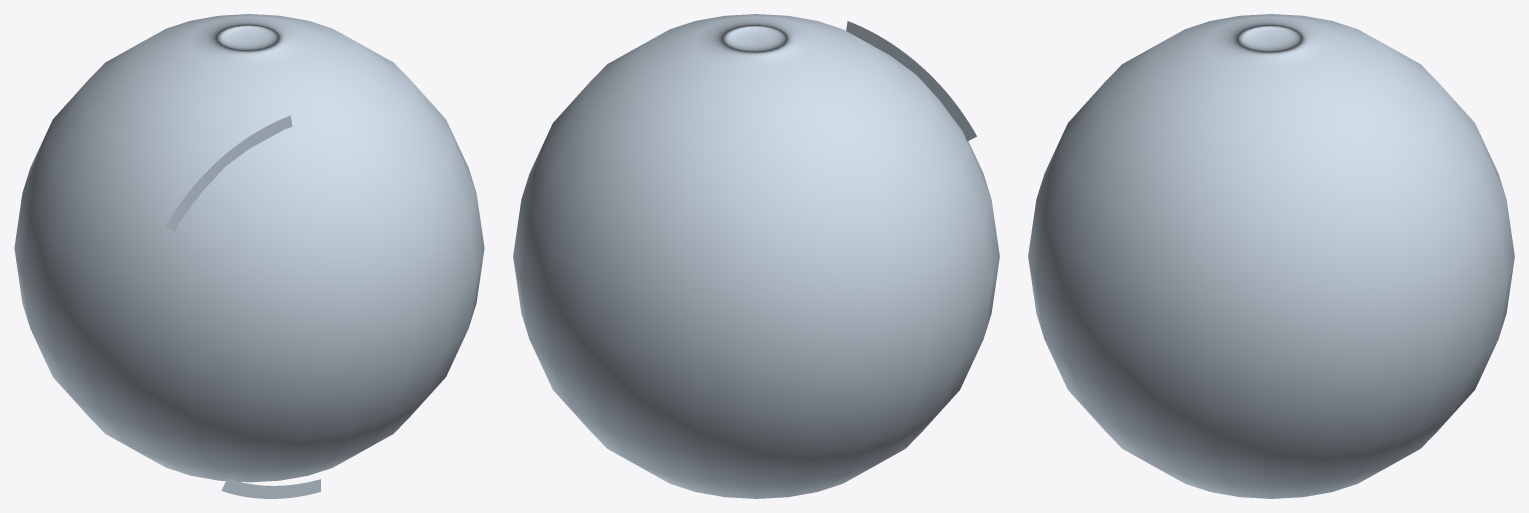
Rendered from 2041_BubbleProjectiles_Heal1_Bubble.fbx.
The picture shows the model from 3 angles, left to right: view 1: azimuth 30°, elevation 25°; view 2: azimuth 150°, elevation 25°; view 3: azimuth 270°, elevation 25°; orthographic projection. The views are drawn at different scales.
Parts seen in each view (by area): view 1: PART_BubbleWaterMembrane, PART_BubbleSpecular0, PART_BubbleSpecular1; view 2: PART_BubbleWaterMembrane, PART_BubbleSpecular0; view 3: PART_BubbleWaterMembrane.
Part boxes in pixels (<box>): PART_BubbleWaterMembrane: <box>14,14,484,482</box>; PART_BubbleSpecular0: <box>166,115,292,231</box>; PART_BubbleSpecular1: <box>221,478,321,498</box>; PART_BubbleWaterMembrane: <box>513,14,999,498</box>; PART_BubbleSpecular0: <box>846,21,976,141</box>; PART_BubbleWaterMembrane: <box>1028,14,1514,498</box>.
Size of the model in its own units: 80 by 80 by 80.
